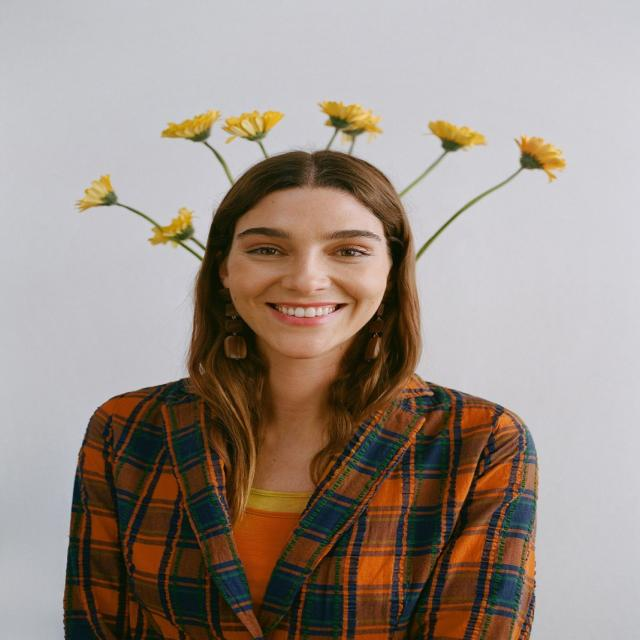human: (63, 151, 544, 640)
